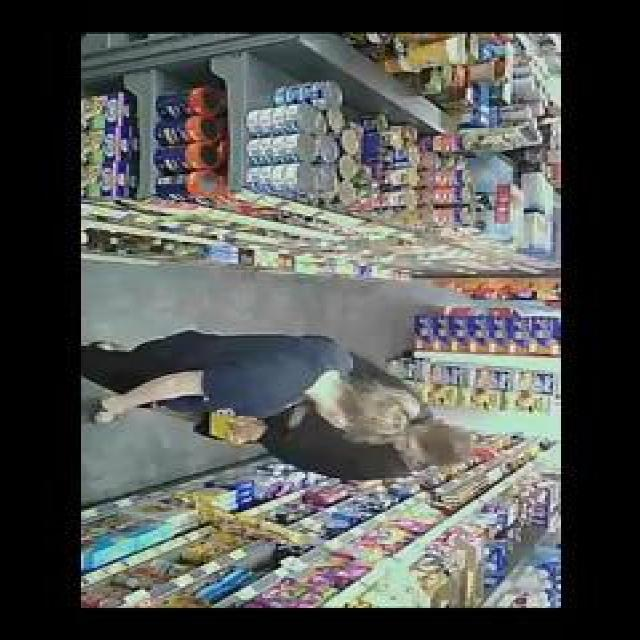Shoplifting: (81, 290, 524, 513)
